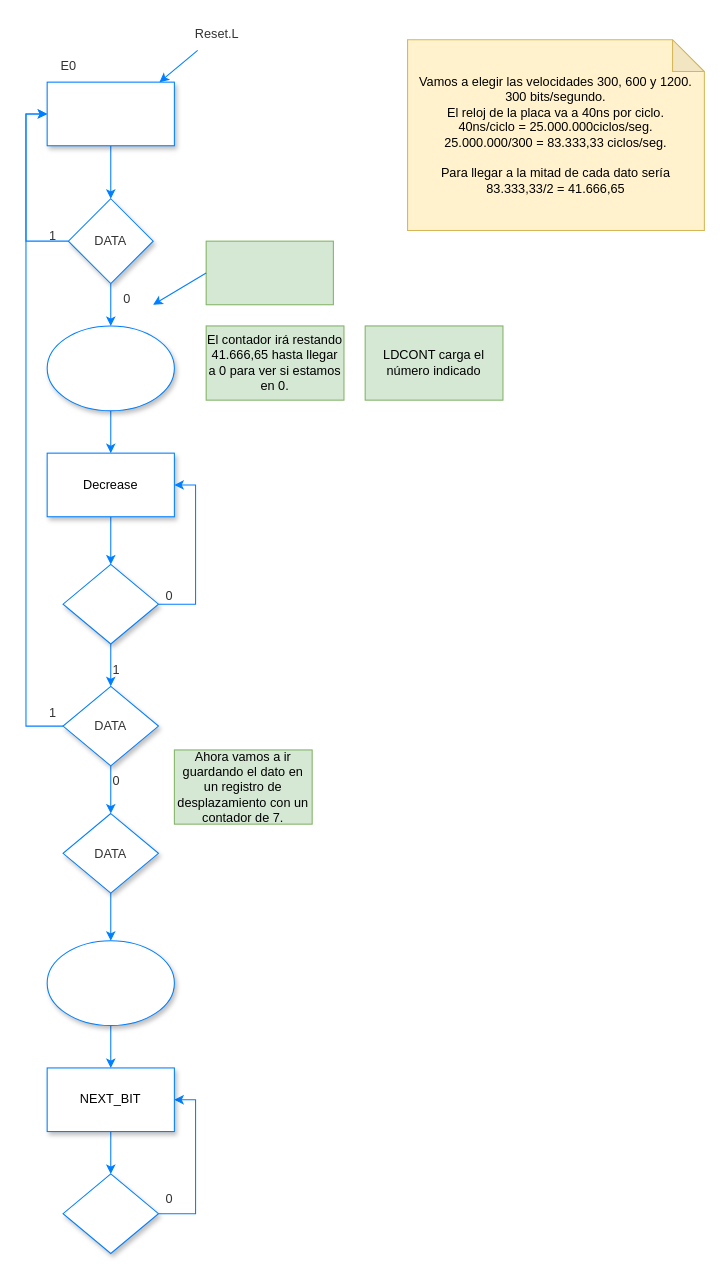
Some shapes in this 723 by 1279 pixel diagram are drawn without their labels. Here are the shapes that lost their labels. From the top down, the centre of each, then its label:
At point 269,272: "Esto significa que ya empieza a entrar el dato.".
At point 111,369: "LDCONT=1 DCONT=0".
At point 111,605: "FINCONT".
At point 111,984: "LDbits".
At point 111,1215: "finbit?".
